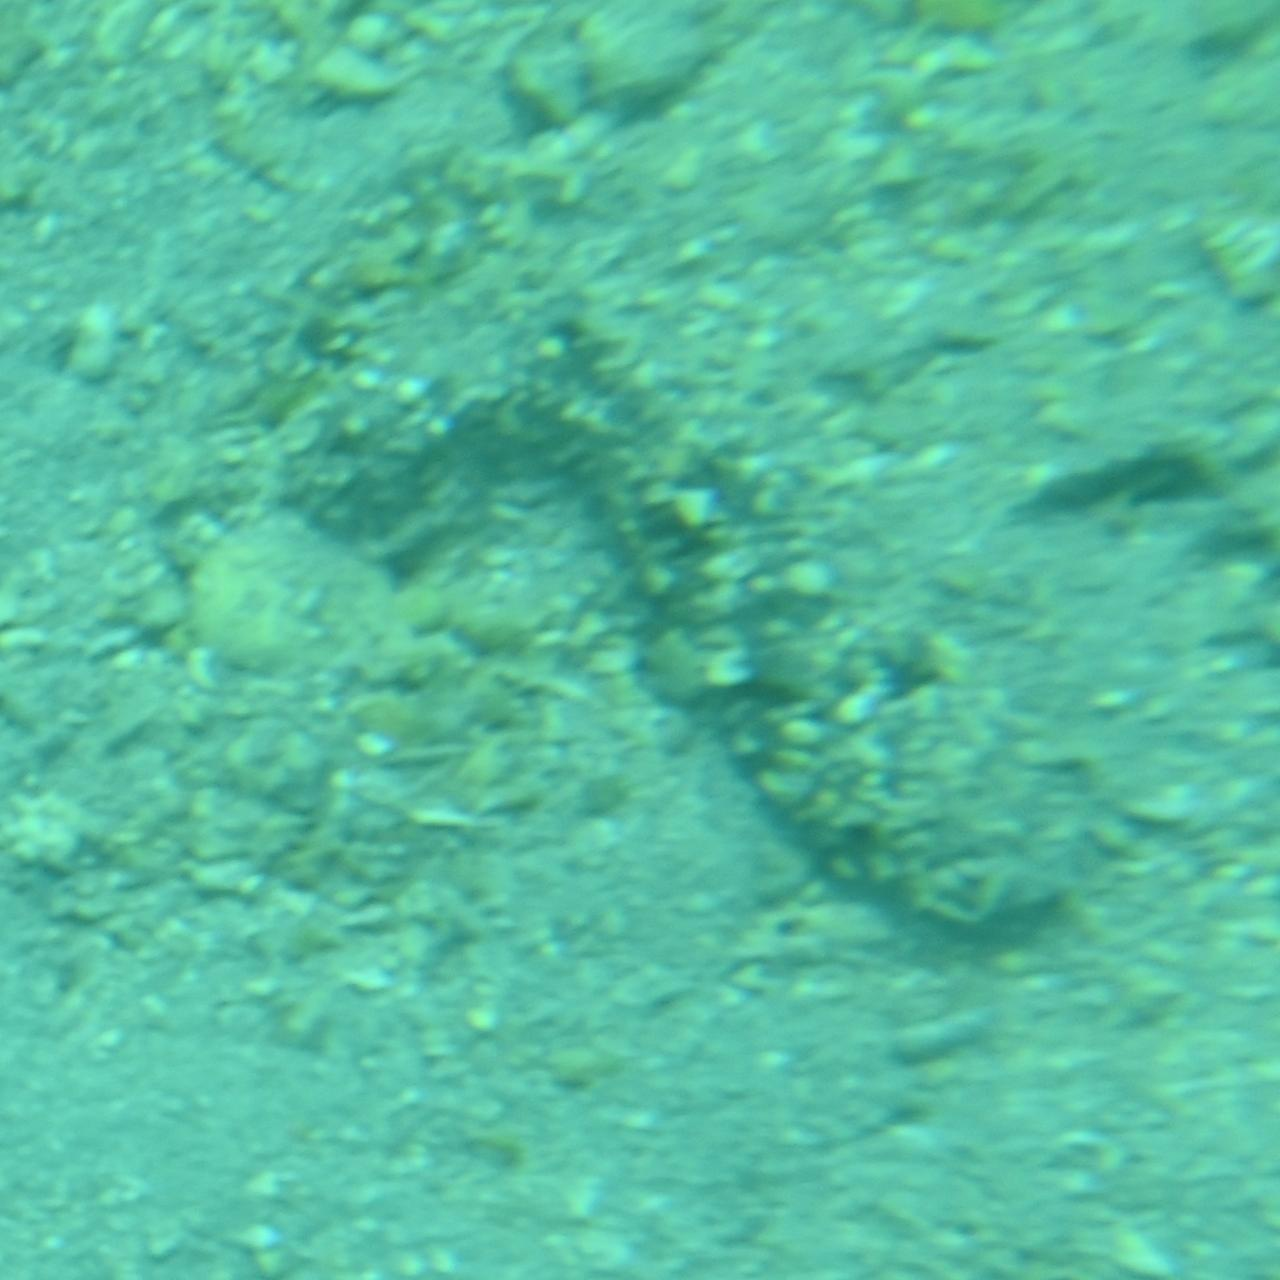Holothuria tubulosa: (252, 297, 1097, 983)
